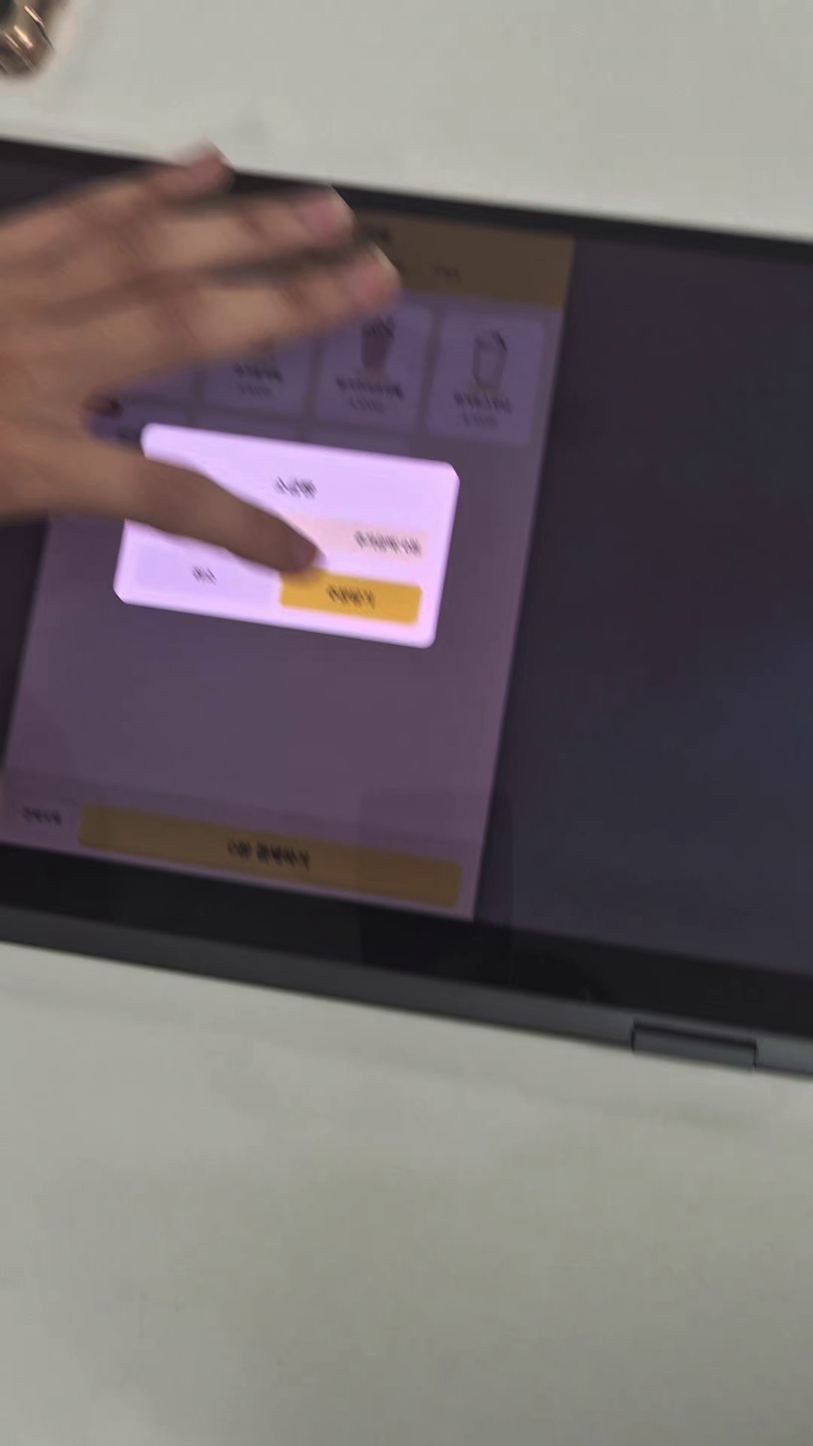action_button: (131, 544, 275, 608), (274, 566, 424, 624)
popup_modal: (102, 419, 466, 649)
